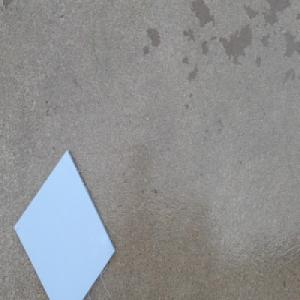PaintChip: (14, 148, 116, 300)
